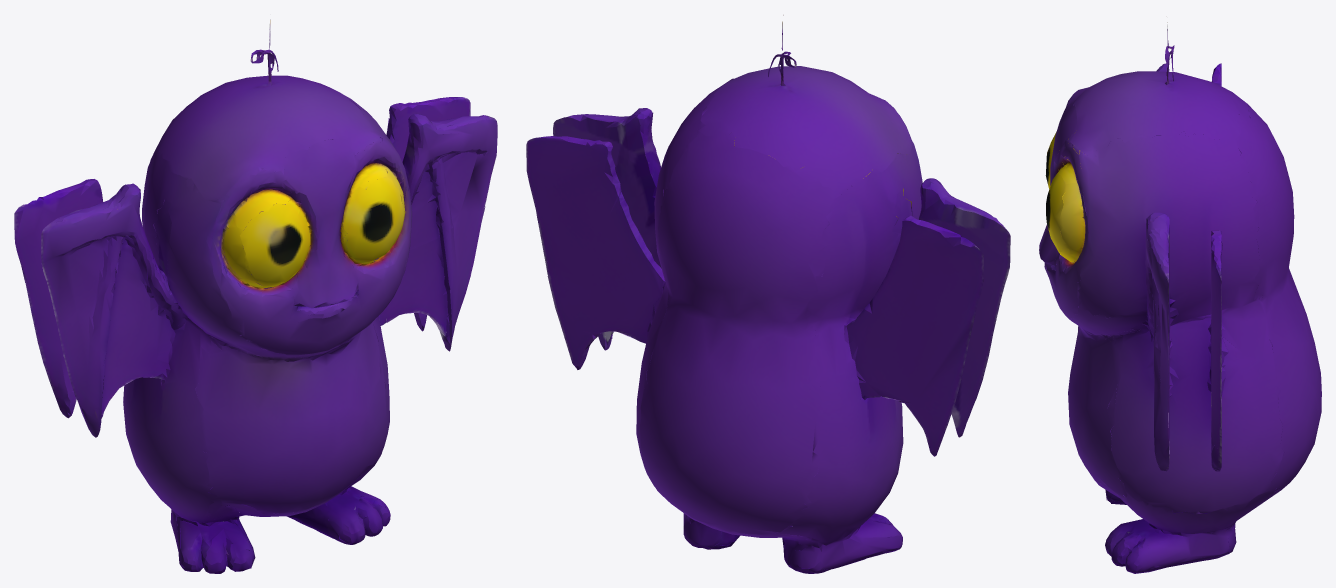
File: voxel_bat.glb
The picture shows the model from 3 angles, left to right: view 1: azimuth 30°, elevation 25°; view 2: azimuth 150°, elevation 25°; view 3: azimuth 270°, elevation 25°; orthographic projection. The views are drawn at different scales.
Parts seen in each view (by area): view 1: BeastBat; view 2: BeastBat; view 3: BeastBat.
Boxes of the visible parts, x1,y1,x2,y2 form: BeastBat: [14, 19, 497, 573]; BeastBat: [526, 15, 1010, 573]; BeastBat: [1039, 22, 1321, 573].
Bounding box in the file's own units: 1.42 × 1.55 × 0.7752.
1 material, 1 textured.
